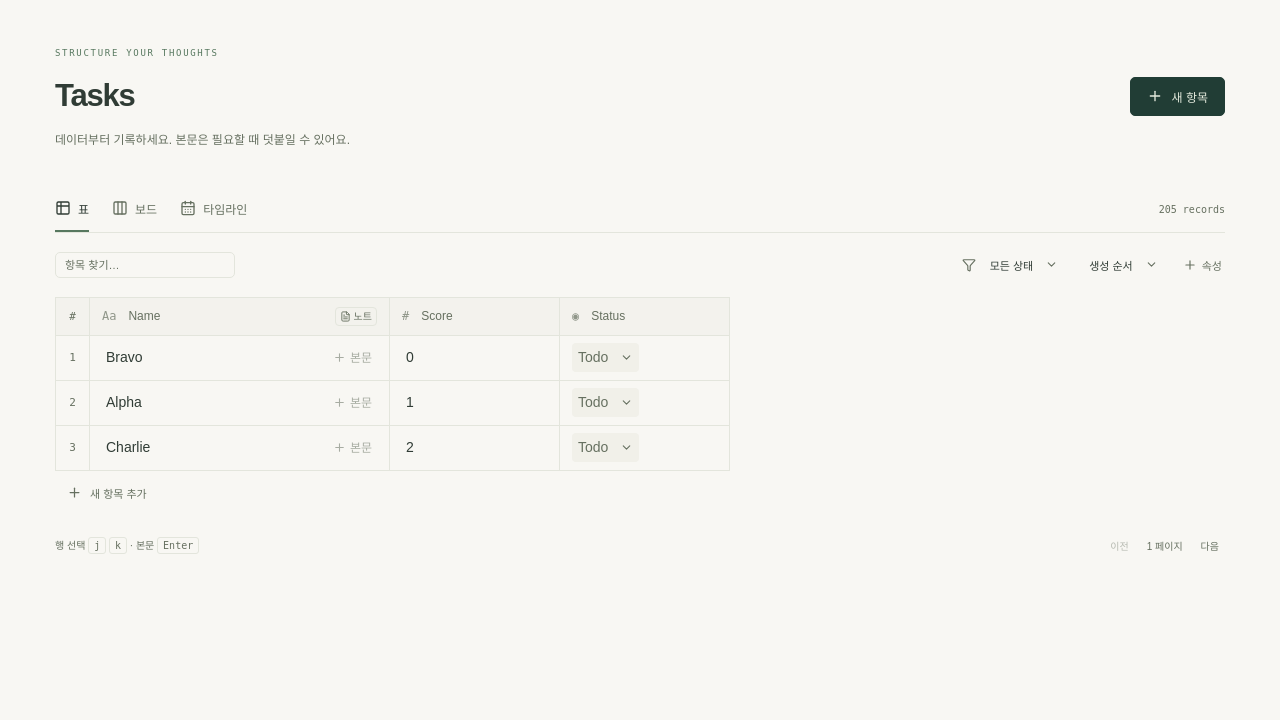
Scenario: header sorting cycles ascending, descending and creation order without opening the property editor
This screenshot has width=1280, height=720.
Click the button "# Score" at (474, 316), box [390,298,559,335]
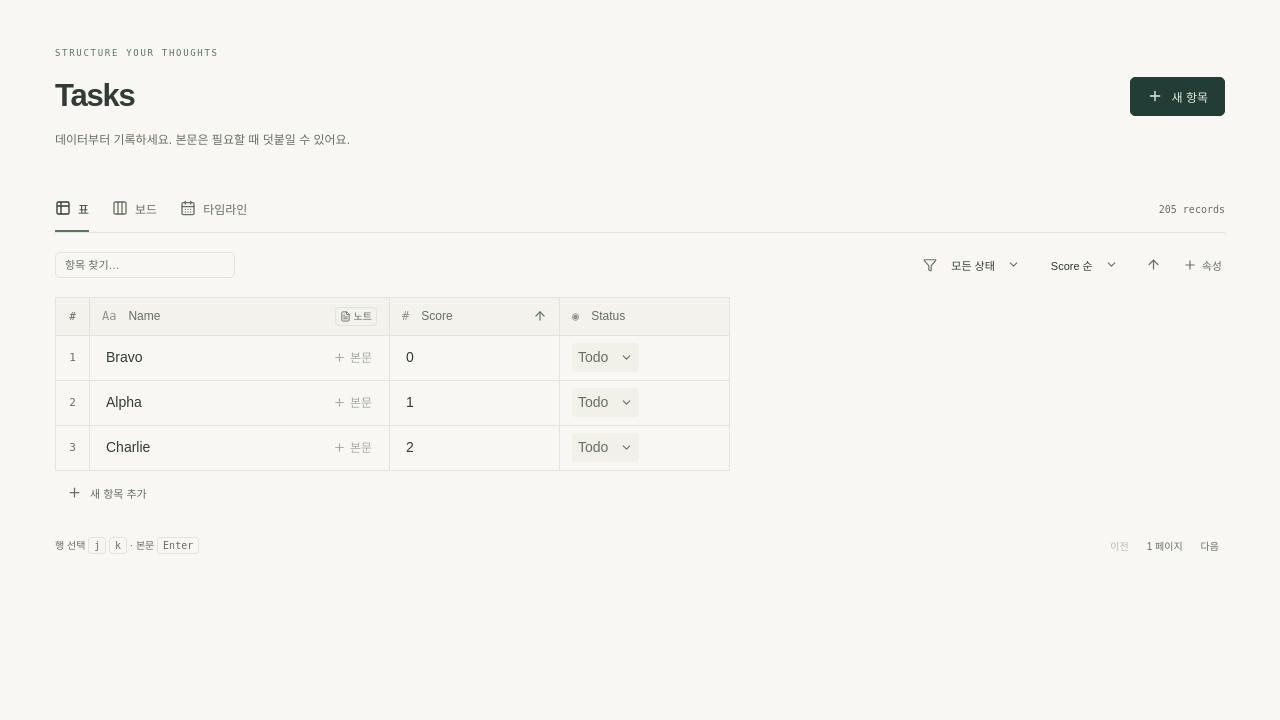
Expected: the dropdown named "정렬 기준" reads "Score 순", [1042,251,1127,279]
Expected: the icon with class "column-sort-arrow" is shown, [533,309,547,323]
Click the button "# Score" at (474, 316), box [390,298,559,335]
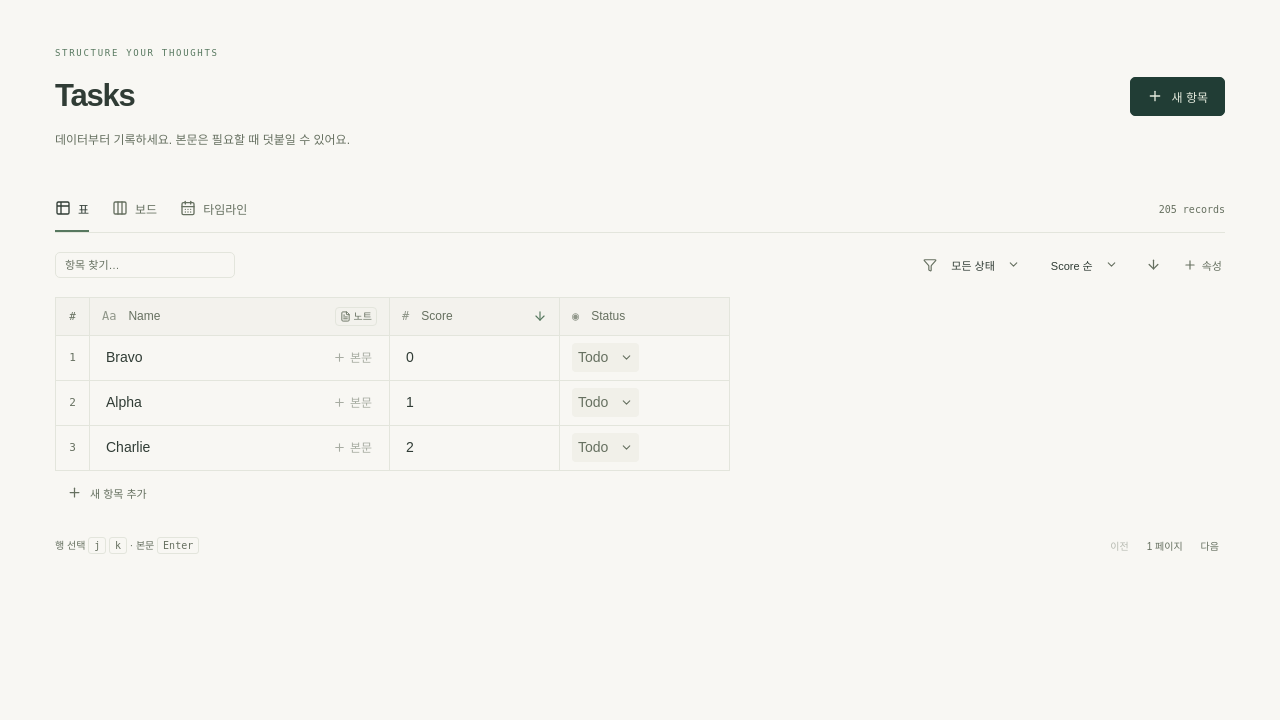
Expected: the dropdown named "정렬 기준" reads "Score 순", [1042,251,1127,279]
Expected: the icon with class "column-sort-arrow" is shown, [533,309,547,323]
Click the button "# Score" at (474, 316), box [390,298,559,335]
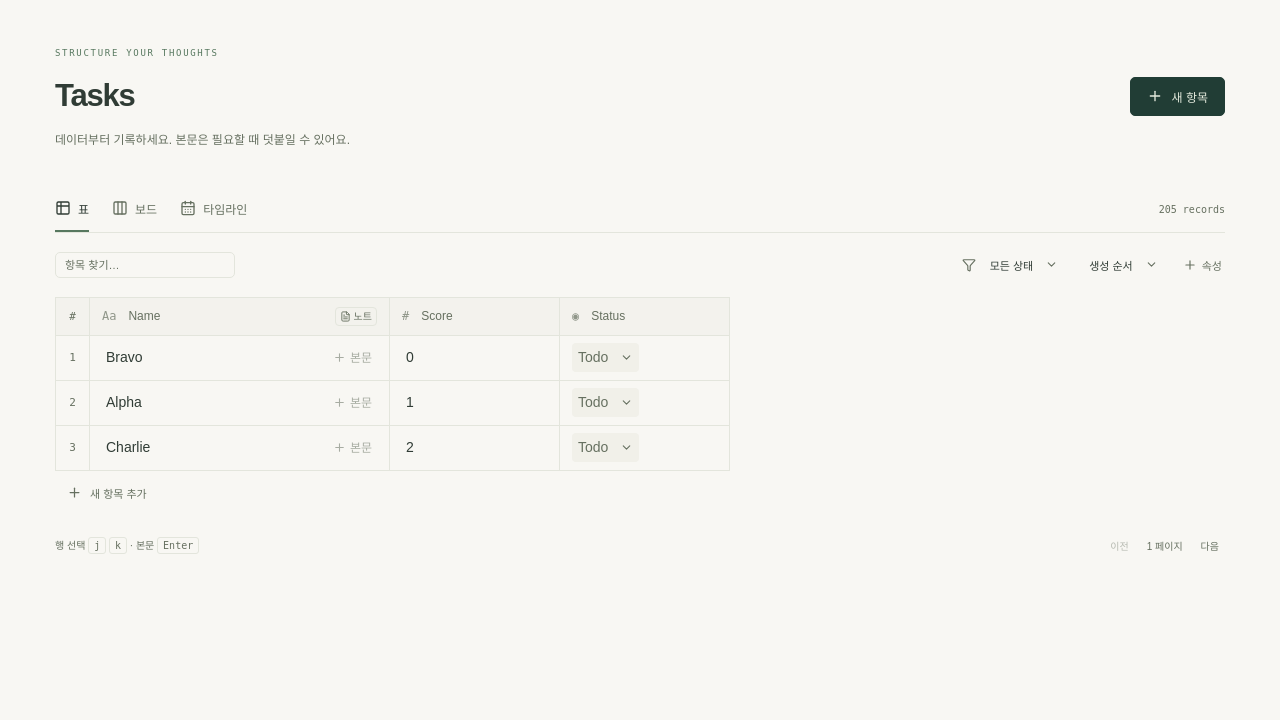
Expected: the dropdown named "정렬 기준" reads "생성 순서", [1080,251,1167,279]
